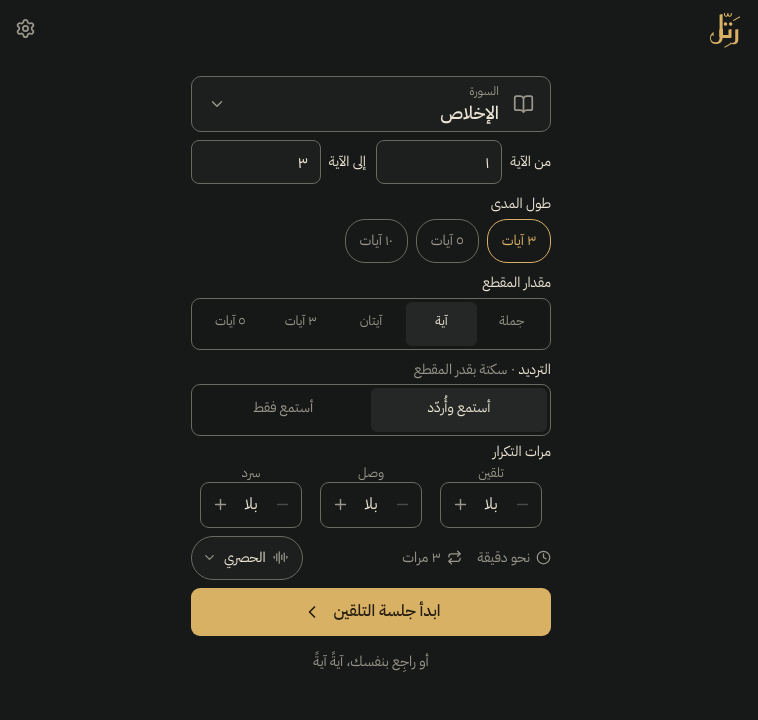
Scenario: choosing a passage › keeps one closing recital when every count is turned off
Expected: the element named "تقدير الجلسة" reads "نحو دقيقة ٣ مرات", 478,547 -> 508,568
Step 1. Click the button "ابدأ جلسة التلقين" → (371, 612), box 191,588 -> 551,636
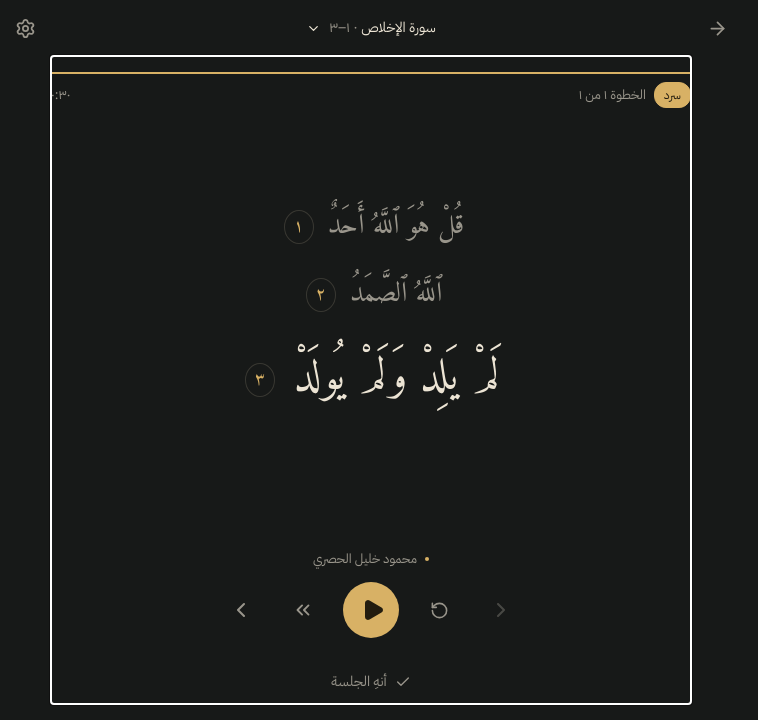
Expected: the text "سرد" is shown, 654,82 -> 691,108
Expected: the text "سرد الخطوة ١ من ١" is shown, 579,82 -> 691,108
